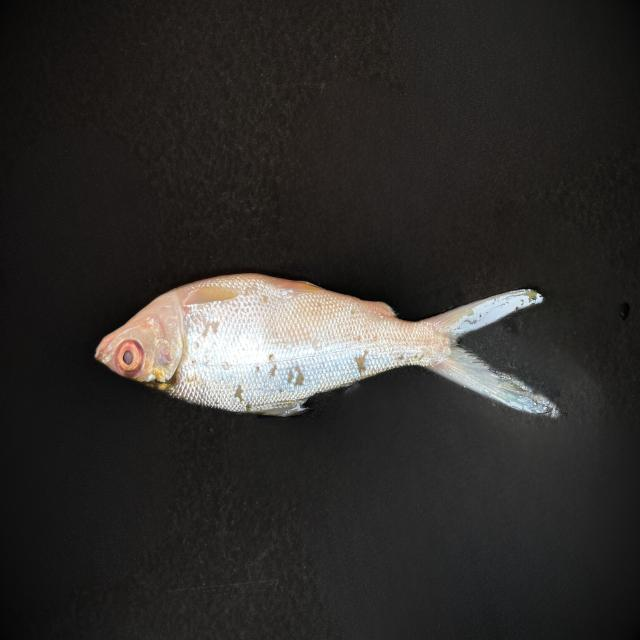460 g: (95, 273, 552, 417)
